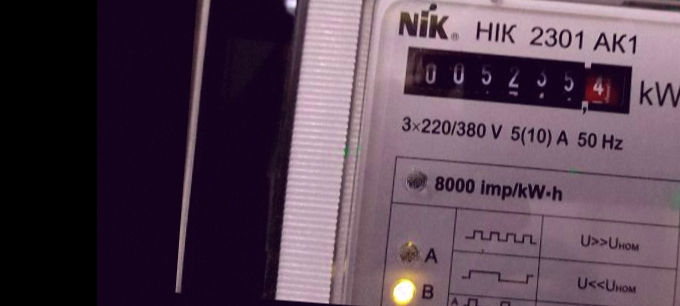0: (423, 59, 441, 86), (452, 59, 468, 85)
2: (507, 62, 523, 88)
3: (535, 62, 551, 88)
4: (592, 70, 609, 97)
5: (562, 65, 579, 93), (479, 60, 496, 87)
screen: (395, 36, 647, 123)
